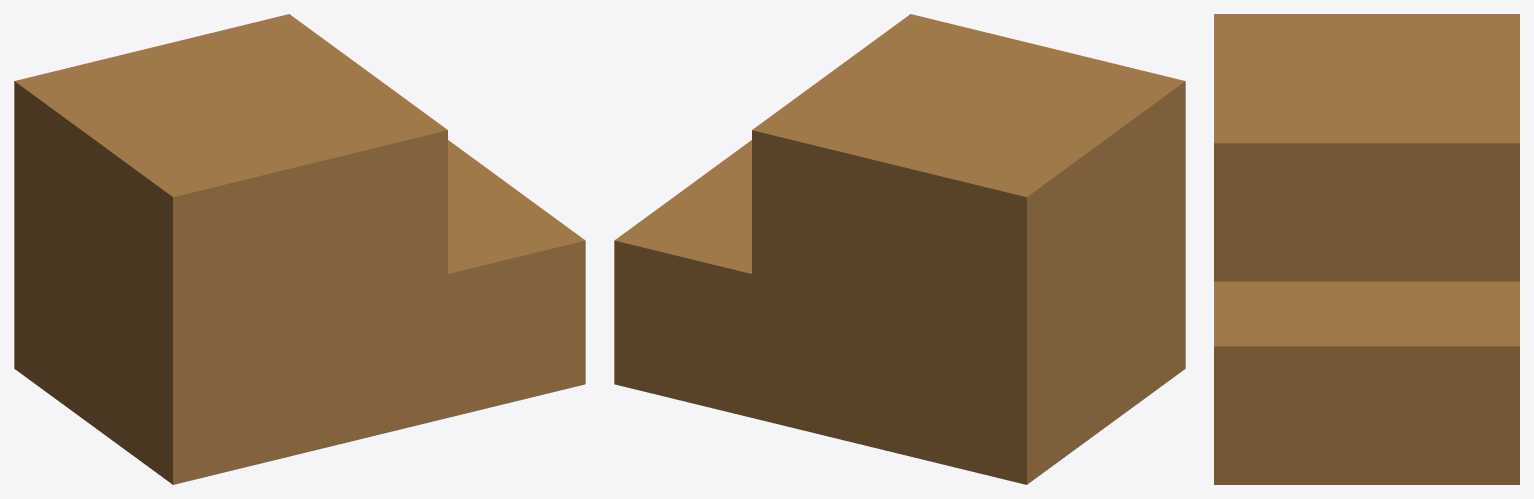
File: case_7_d_62x39.glb
The picture shows the model from 3 angles, left to right: view 1: azimuth 30°, elevation 25°; view 2: azimuth 150°, elevation 25°; view 3: azimuth 270°, elevation 25°; orthographic projection. The views are drawn at different scales.
Visible parts, largest first — view 1: cartridge:cartridge-model; view 2: cartridge:cartridge-model; view 3: cartridge:cartridge-model.
Part boxes in pixels (<box>): cartridge:cartridge-model: <box>14,14,585,484</box>; cartridge:cartridge-model: <box>614,14,1185,484</box>; cartridge:cartridge-model: <box>1214,14,1519,484</box>.
Size of the model in its own units: 0.03 by 0.02 by 0.02.
